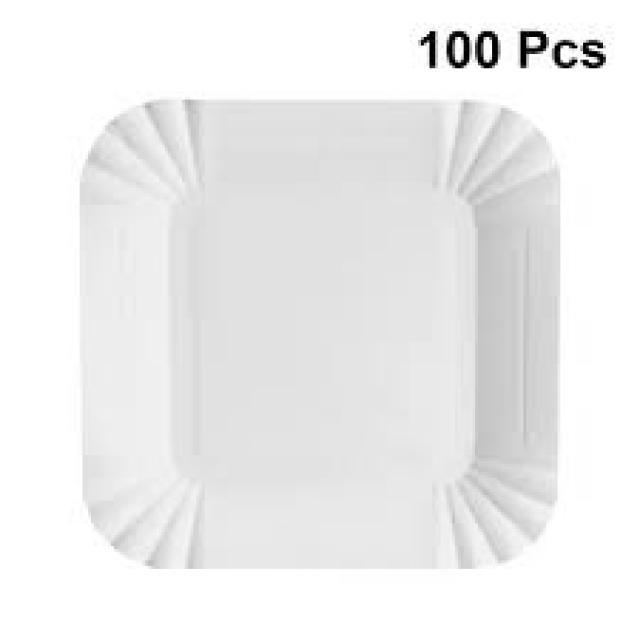dish: (56, 69, 573, 599)
